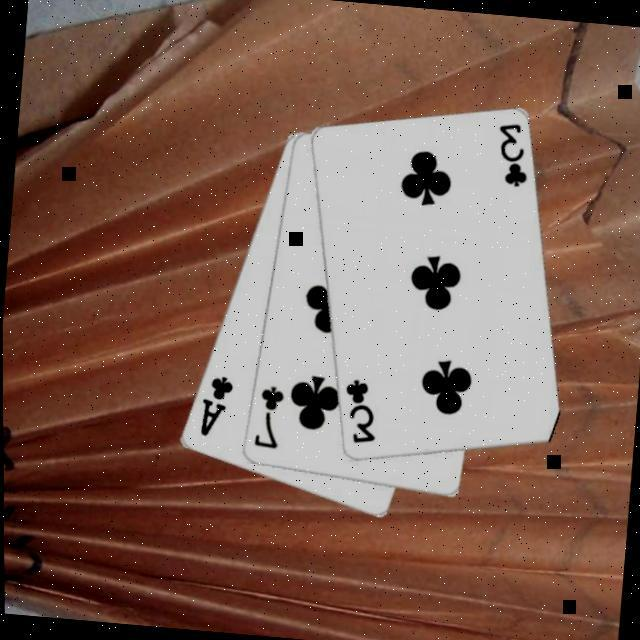3C: (337, 377, 382, 450), (490, 120, 534, 193)
7C: (248, 383, 286, 454)
AC: (194, 373, 237, 442)
